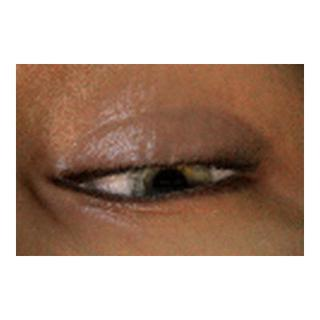pupil: (153, 169, 187, 203)
